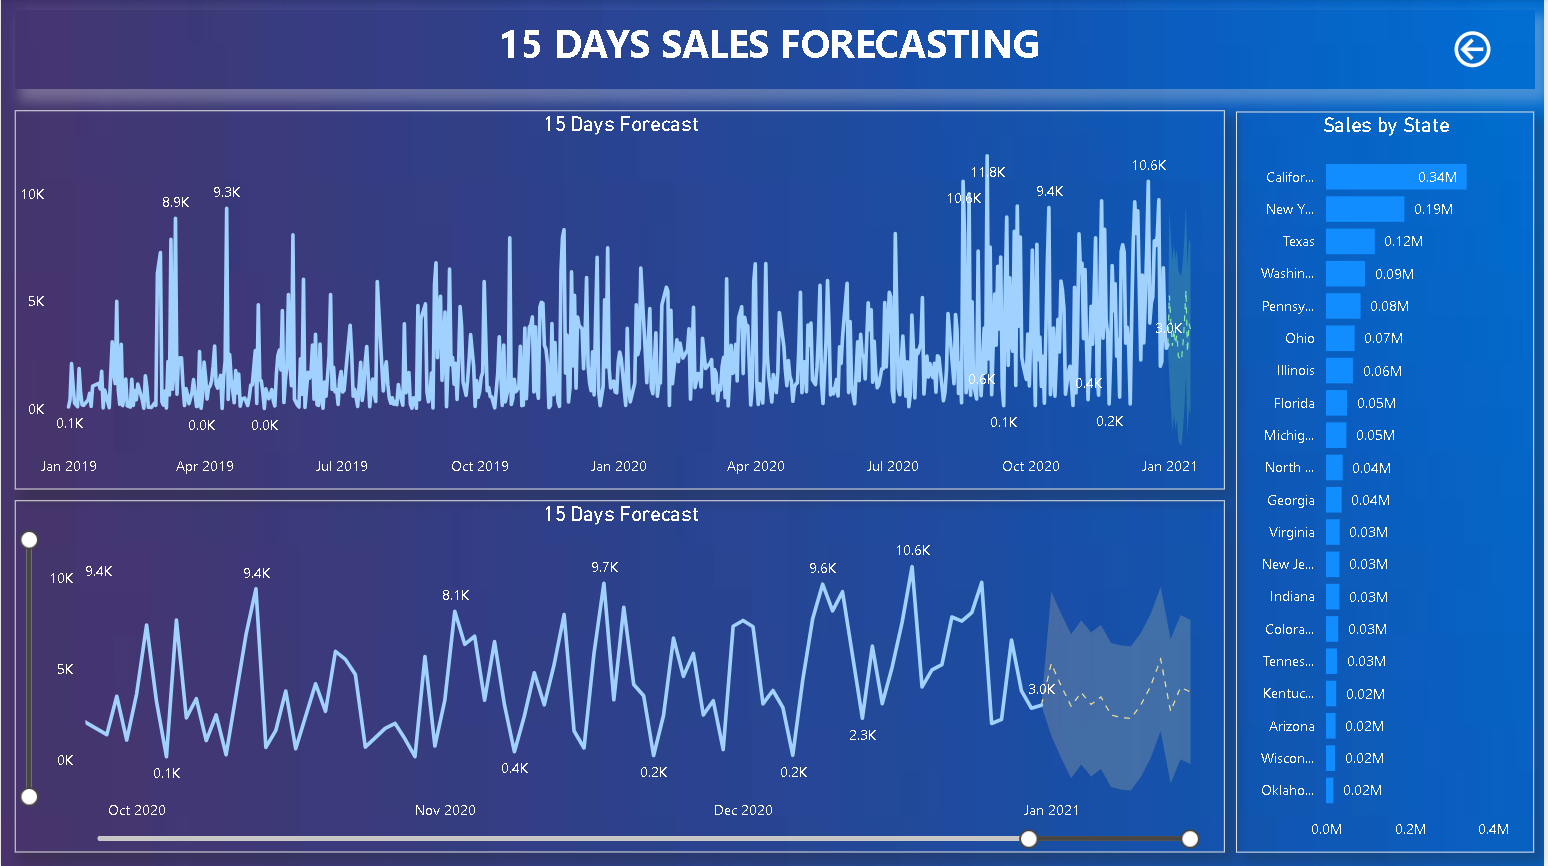

The dashboard page shown, as its layout file describes it:
{"tool":"powerbi","page":{"name":"Forecast","canvas":[1280,720],"ordinal":1},"visuals":[{"type":"textbox","box":[11,9.6,1259.7,65.9],"z":0},{"type":"lineChart","title":"15 Days Forecast","fields":{"Y":["Sum(Sales_Dataset_proj2.Sales)"],"Category":["Sales_Dataset_proj2.Order Date"]},"box":[11,91.9,1003.1,314.2],"z":1000},{"type":"lineChart","title":"15 Days Forecast","fields":{"Y":["Sum(Sales_Dataset_proj2.Sales)"],"Category":["Sales_Dataset_proj2.Order Date"]},"box":[11,415.8,1003.1,292.3],"z":2000},{"type":"barChart","title":"Sales by State","fields":{"Category":["Sales_Dataset_proj2.State"],"Y":["Sum(Sales_Dataset_proj2.Sales)"]},"box":[1023.7,93.3,247,614.8],"z":3000},{"type":"actionButton","box":[1200.4,21.7,56.7,39.8],"z":4000}]}

Visuals, with their boxes in screenshot pixels (x1, y1, x2, y2), scaled from the page's 1280x720 canvas onto the 1548x866 screenshot:
textbox: bbox(13, 12, 1537, 91)
"15 Days Forecast" lineChart: bbox(13, 111, 1226, 488)
"15 Days Forecast" lineChart: bbox(13, 500, 1226, 852)
"Sales by State" barChart: bbox(1238, 112, 1537, 852)
actionButton: bbox(1452, 26, 1520, 74)
